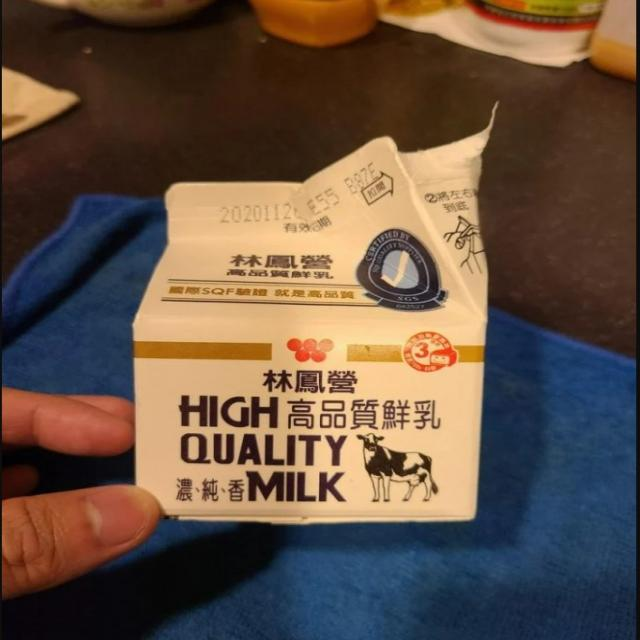non_white_jug: (106, 92, 514, 539)
